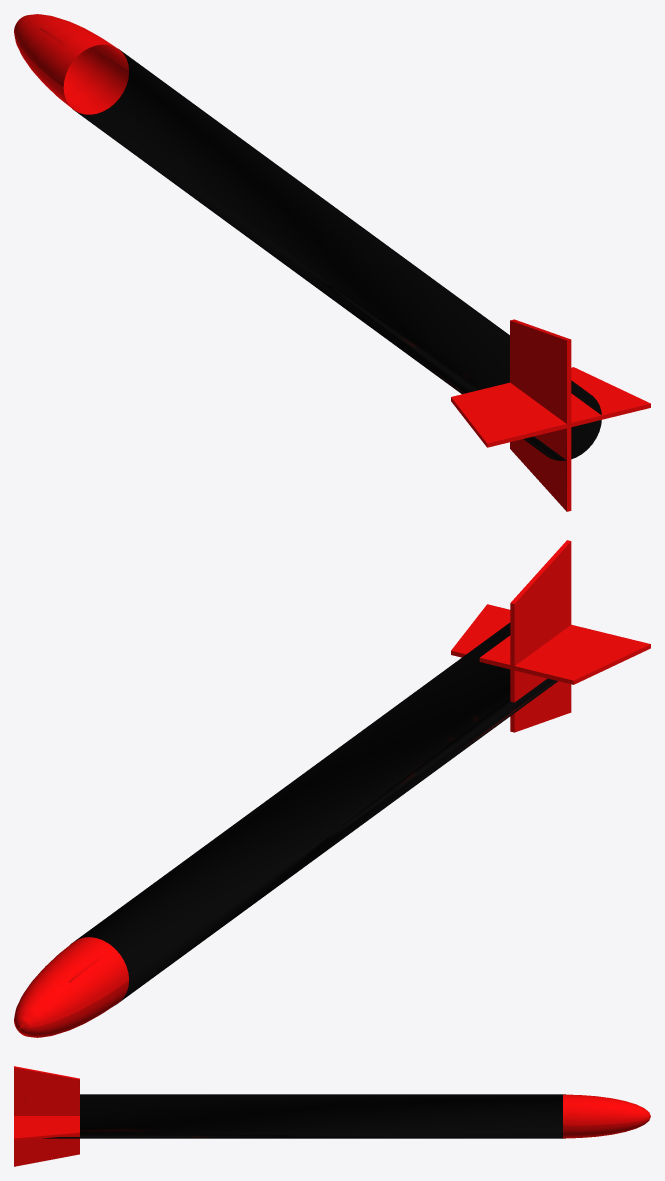
The model's file is vehicle.dae.
The picture shows the model from 3 angles, top to bottom: view 1: azimuth 30°, elevation 25°; view 2: azimuth 150°, elevation 25°; view 3: azimuth 270°, elevation 25°; orthographic projection. The views are drawn at different scales.
Parts seen in each view (by area): view 1: Plane.001; view 2: Plane.001; view 3: Plane.001.
Part boxes in pixels (x1=…): Plane.001: x1=14, y1=14, x2=650, y2=511; Plane.001: x1=14, y1=540, x2=650, y2=1037; Plane.001: x1=14, y1=1066, x2=650, y2=1166.
Bounding box in the file's own units: 5 × 29 × 5.
Materials: 1 (1 with a texture image).
